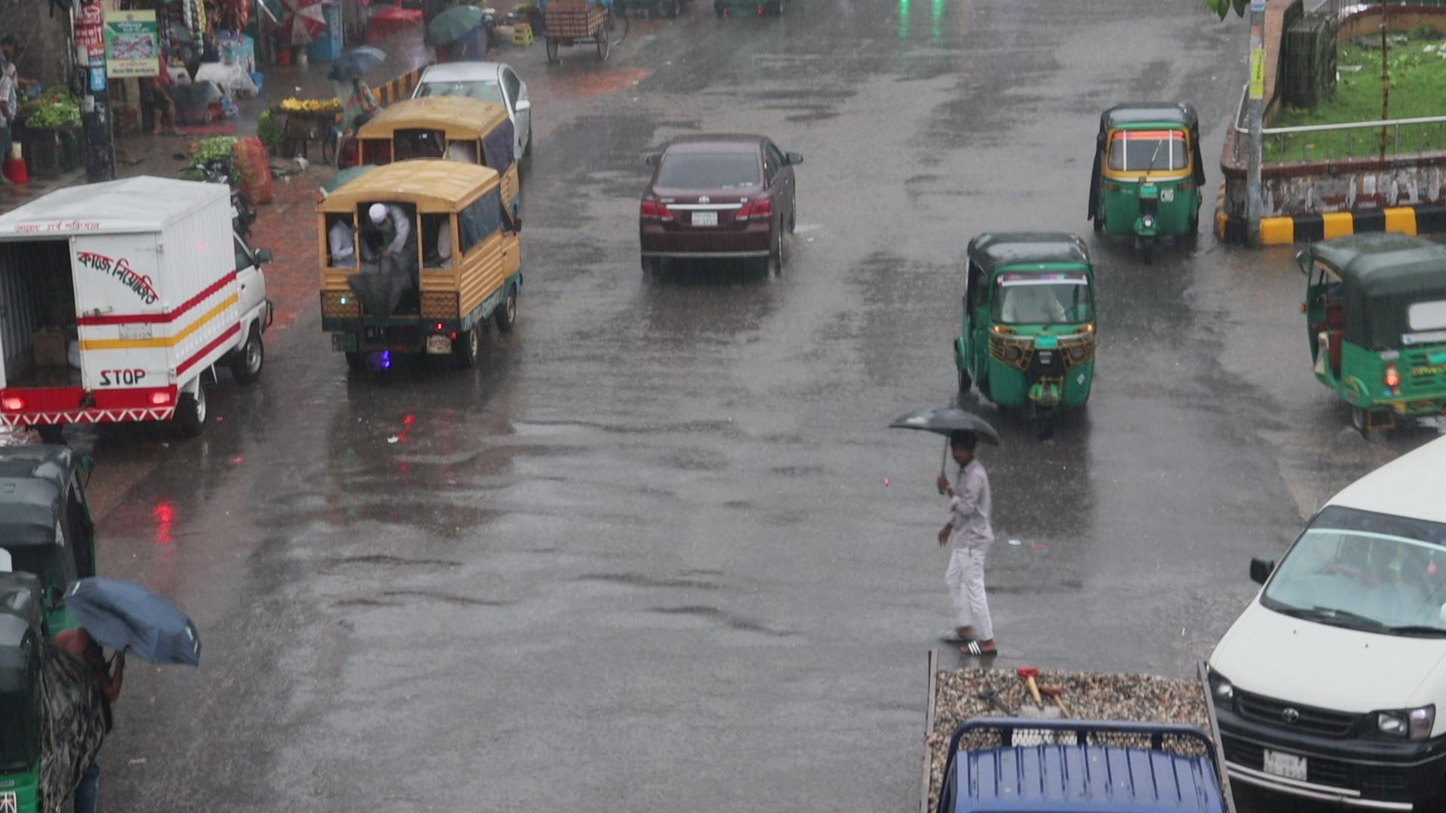Car: (1190, 425, 1446, 813), (628, 120, 811, 284)
Truck: (309, 155, 522, 384)
